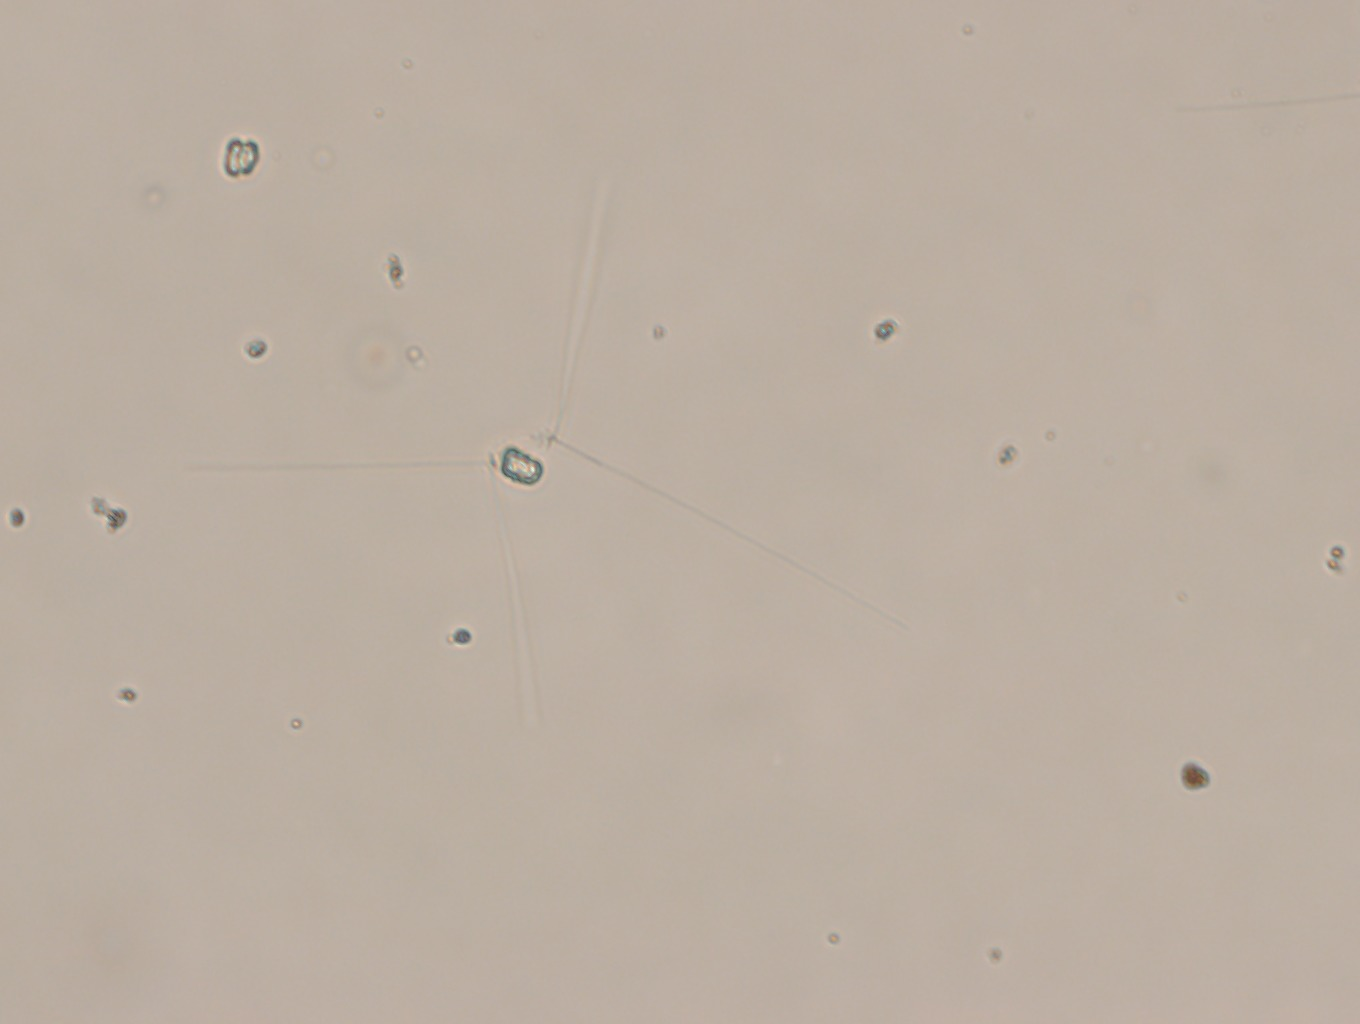chaetoceros: (158, 190, 894, 760)
